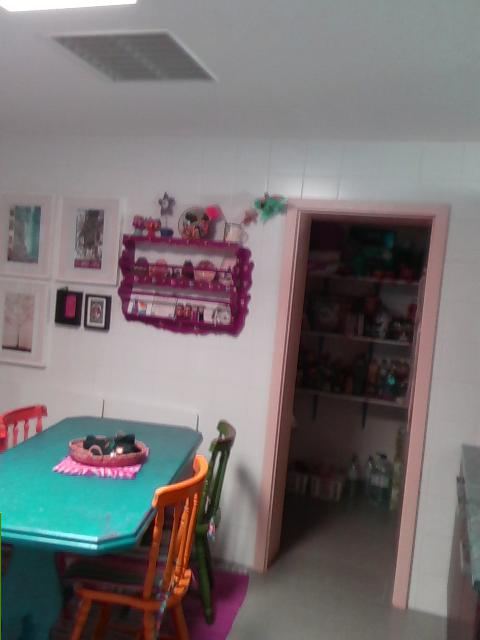open_door: (252, 196, 449, 576)
